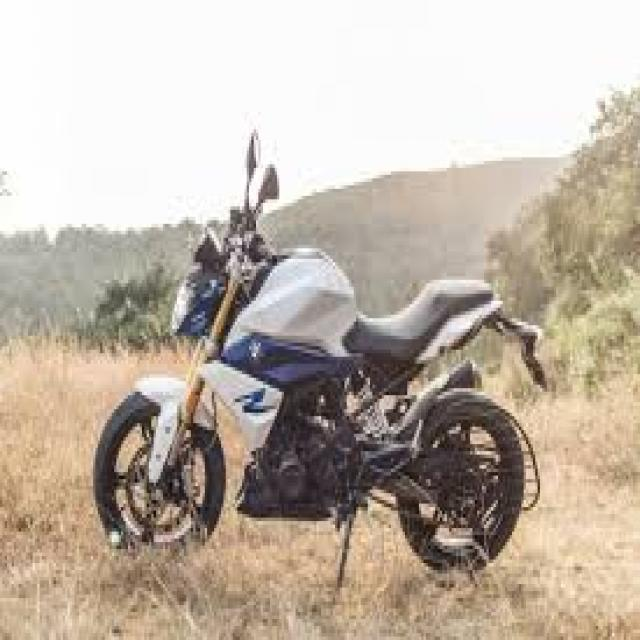Bike: (91, 136, 546, 586)
